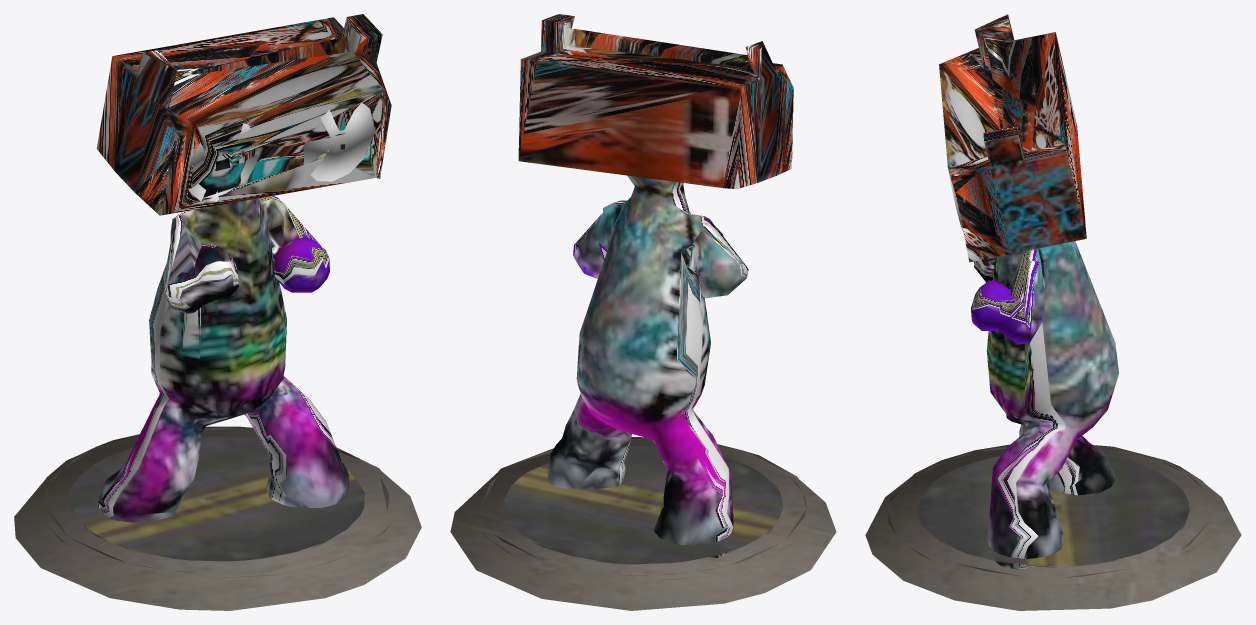
3 views of the same model, side by side, from view 1: azimuth 30°, elevation 25°; view 2: azimuth 150°, elevation 25°; view 3: azimuth 270°, elevation 25° (orthographic). The views are drawn at different scales.
Size of the model in its own units: 1.43 by 2.01 by 1.45.
6 materials, 4 textured.
